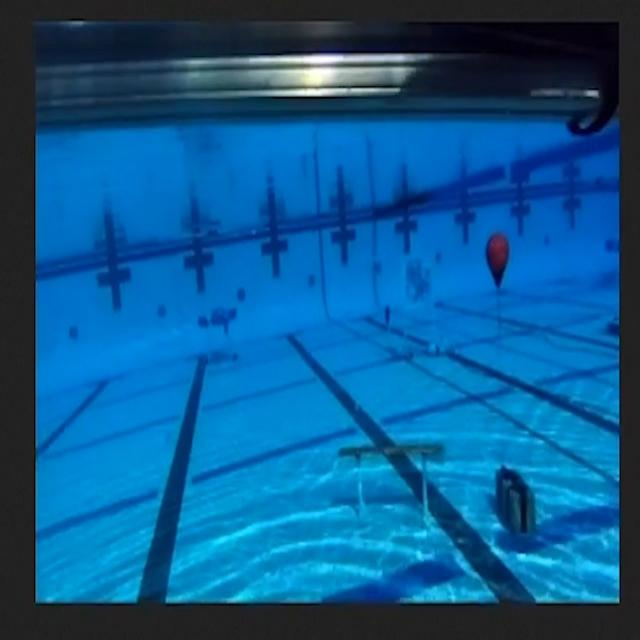Buoy: (475, 221, 518, 311)
Path: (328, 418, 452, 526)
